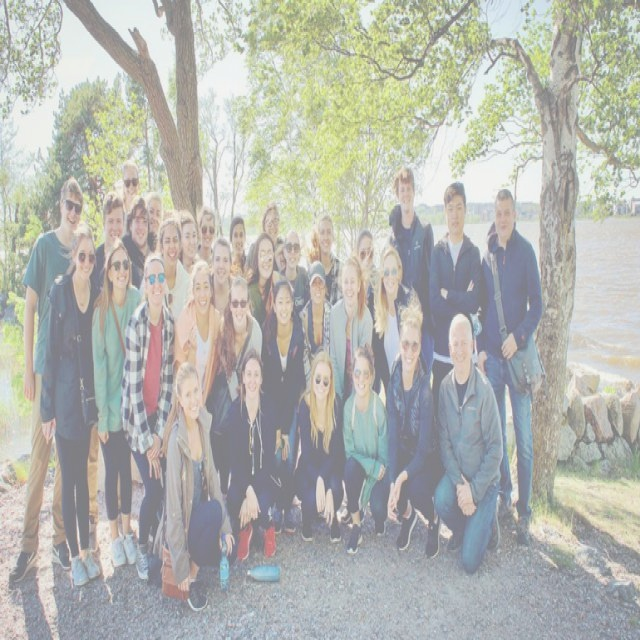pessoa: (6, 171, 88, 588), (477, 186, 546, 547), (39, 225, 101, 590), (151, 360, 237, 614), (117, 250, 180, 584), (430, 311, 504, 579), (88, 233, 146, 570), (427, 180, 483, 500), (384, 283, 446, 561), (210, 342, 280, 562), (258, 276, 306, 536), (210, 274, 264, 503), (338, 341, 392, 558), (384, 164, 436, 384), (292, 342, 348, 546), (371, 241, 424, 410), (173, 259, 224, 407), (328, 254, 374, 413), (138, 215, 194, 323), (90, 189, 136, 311), (297, 259, 336, 393), (246, 230, 288, 335), (356, 230, 382, 396), (119, 193, 158, 290), (306, 214, 346, 308), (248, 201, 286, 287), (279, 227, 312, 317), (204, 236, 240, 317), (117, 156, 141, 240), (177, 210, 199, 274), (196, 204, 217, 268), (228, 214, 248, 278), (179, 208, 198, 272), (144, 192, 164, 239), (274, 236, 286, 270), (246, 244, 257, 270), (162, 203, 178, 218)
